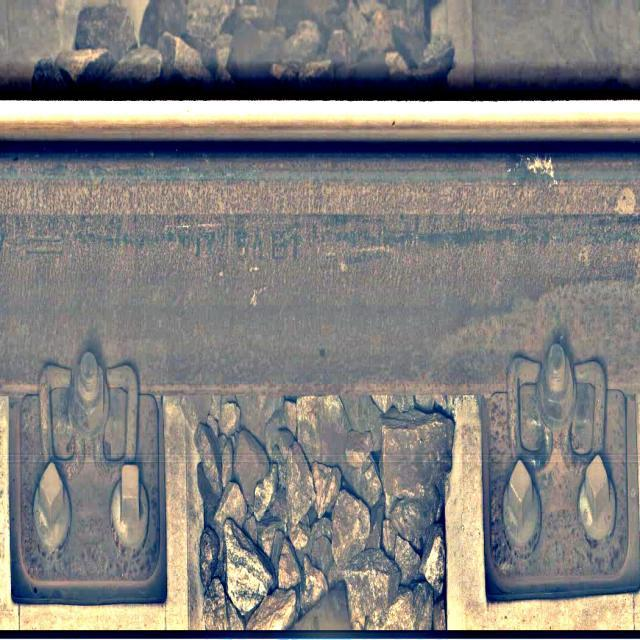Good Fasteners: (486, 343, 639, 599), (10, 352, 165, 604)
